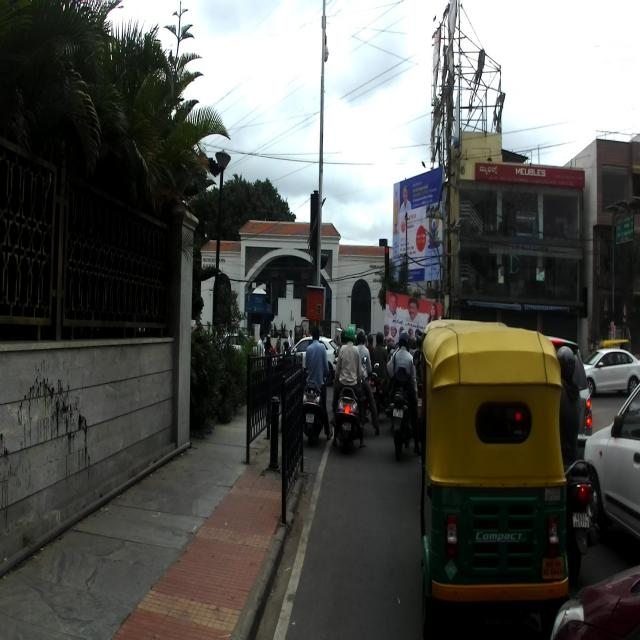autorickshaw: (413, 321, 571, 638)
car: (550, 564, 640, 640)
motorcycle: (385, 371, 419, 459)
scooter: (331, 354, 369, 453), (302, 366, 331, 446)
